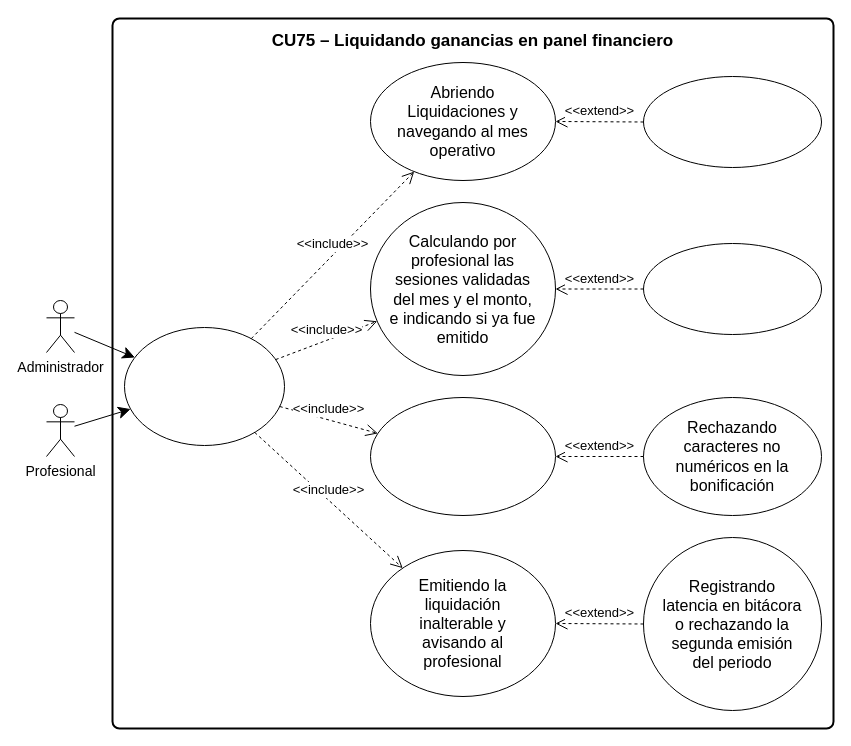
This 851x746 diagram has some shape labels left out. Each missing label, with the centre of its shape:
Ingresando bonificación y observación opcionales: point (463, 456)
Liquidando ganancias en panel financiero: point (204, 386)
Renderizando monto parcial a cero: point (732, 288)
Retornando conjunto de datos vacíos: point (732, 122)
